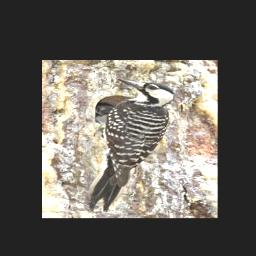Woodpecker: (86, 78, 176, 213)
